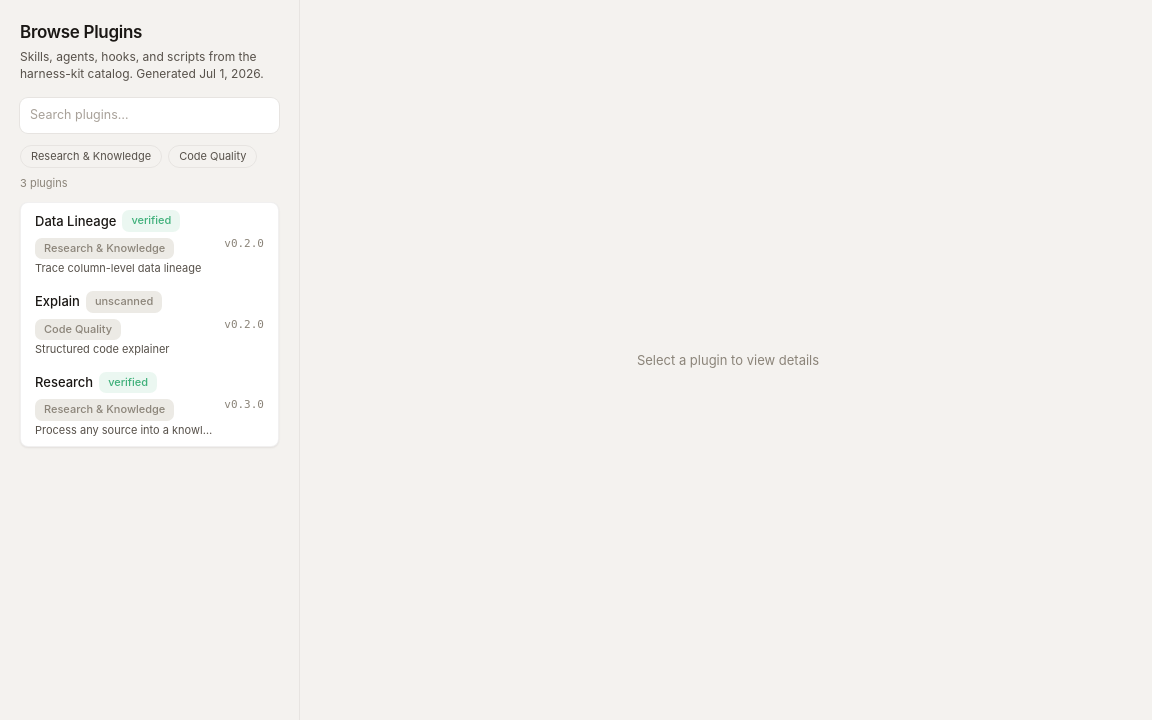
MarketplacePage — list panel › category filter › filters plugins when a category pill is clicked
Click the button "Code Quality" at {"x": 213, "y": 156}, box [168, 144, 257, 168]
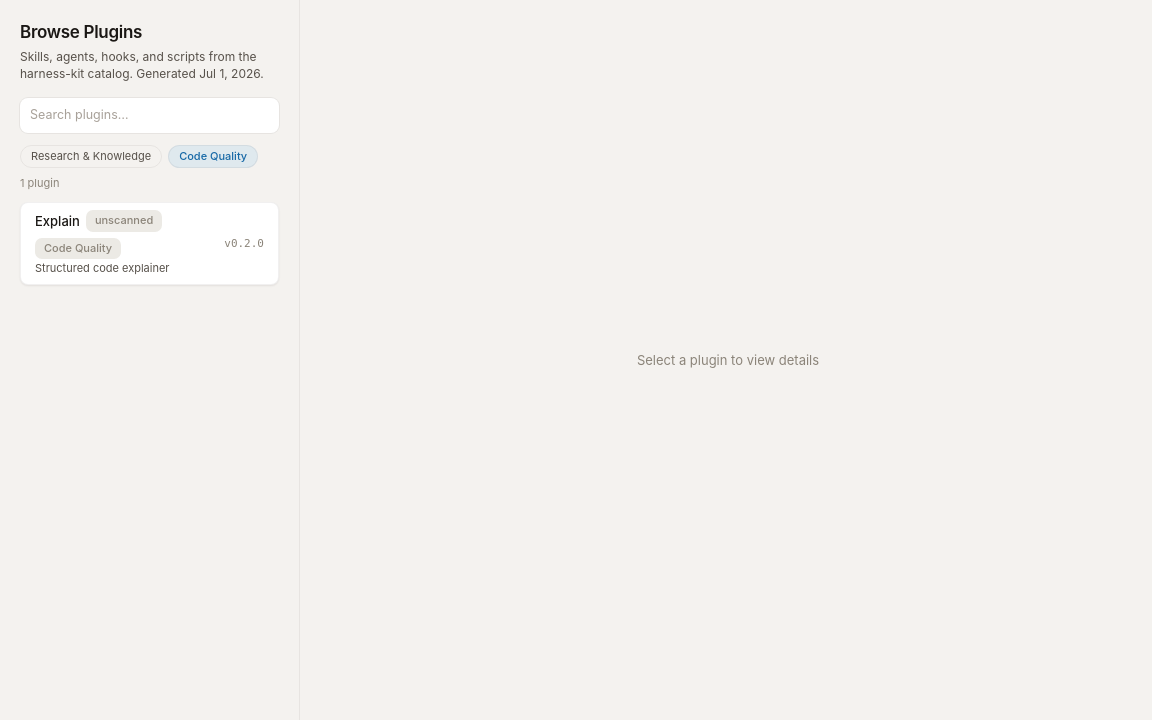
Expected: the text "Explain" is shown, [35, 212, 80, 230]
Result: the button "Data Lineage" is gone
